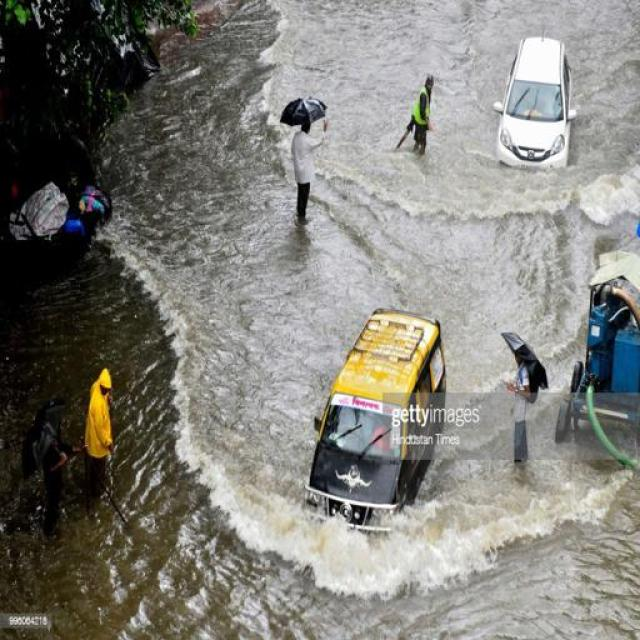puddle: (334, 156, 640, 281), (18, 512, 322, 631), (17, 255, 332, 367), (420, 482, 630, 640)
